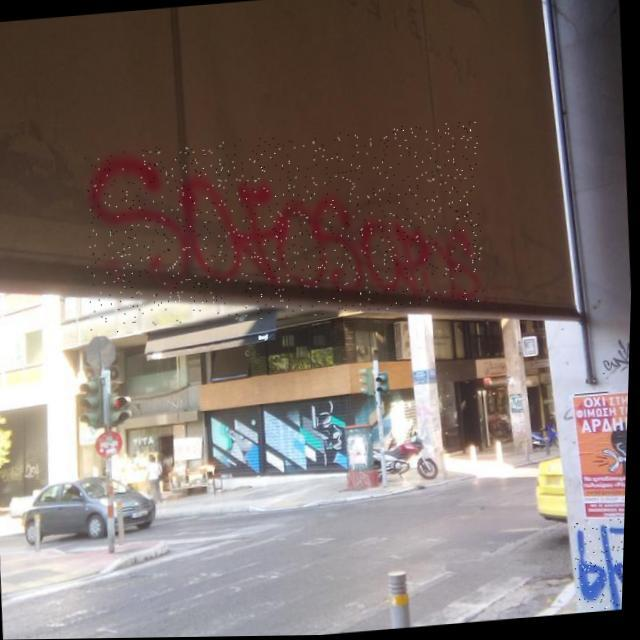-: (78, 120, 490, 334), (574, 518, 628, 614), (596, 332, 632, 378)
